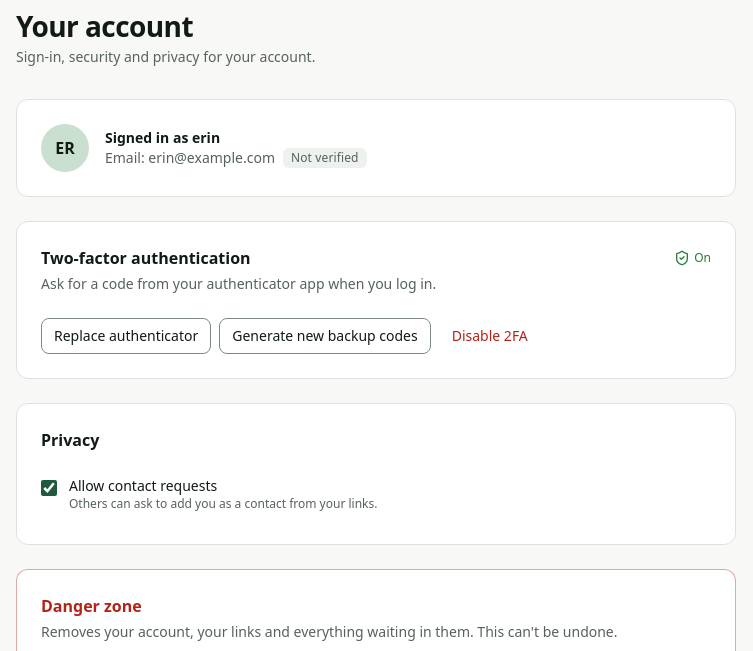
it: AccountPage 2FA section › reflects 2FA now being disabled (Enable button) right after a successful disable, without a remount
Step 1. Click the button with test id "disable-2fa-button" → click(490, 336), box [439, 318, 541, 354]
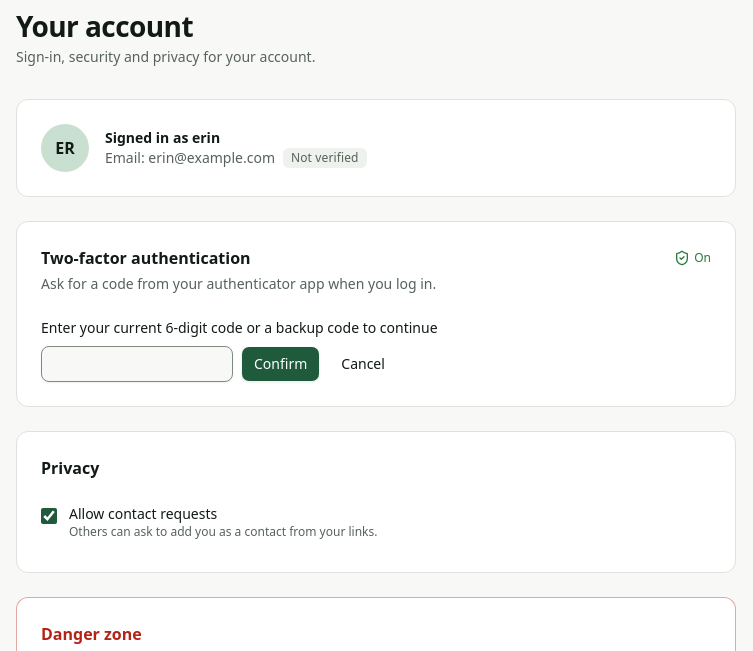
Step 2. Type "123456" into the field with test id "totp-action-code-input" → (137, 364), box [41, 346, 233, 382]
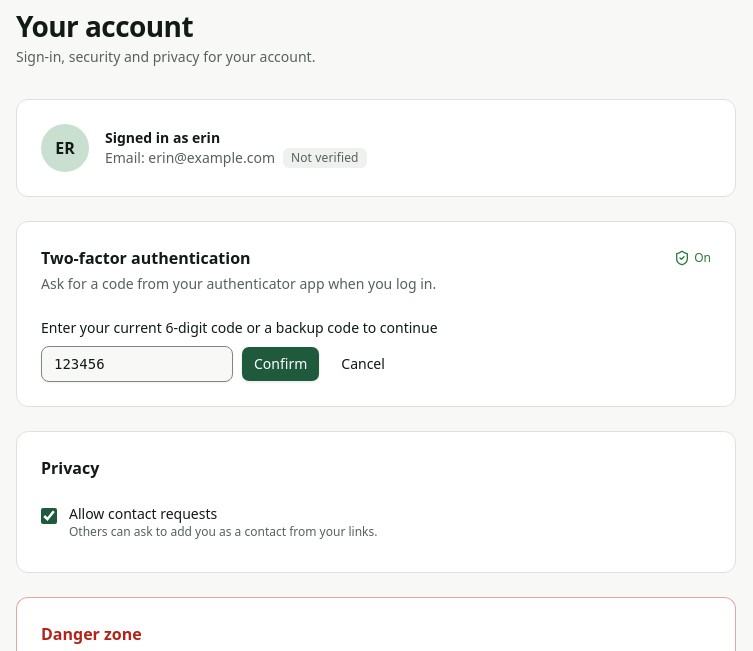
Step 3. Click the button with test id "confirm-totp-action-button" → click(281, 364), box [241, 346, 320, 382]
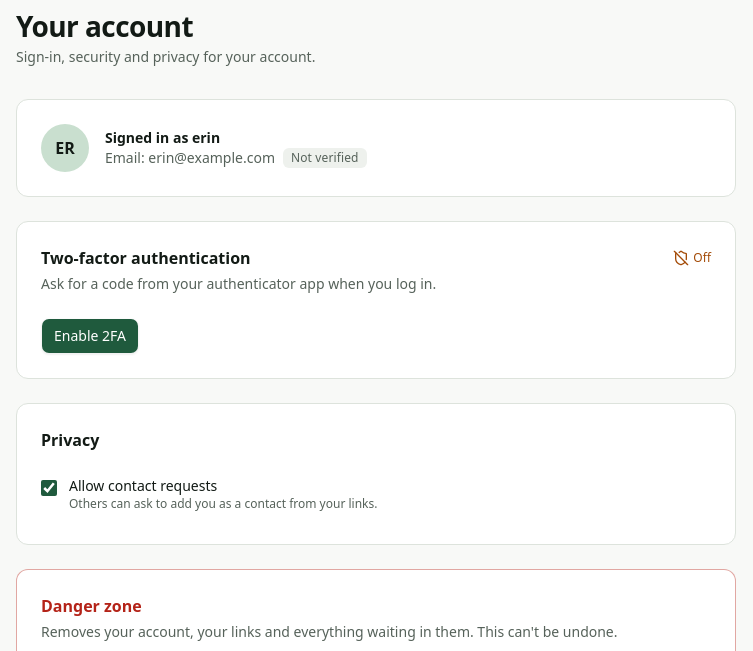
Expected: the button with test id "enable-2fa-button" is shown, [41, 318, 139, 354]
